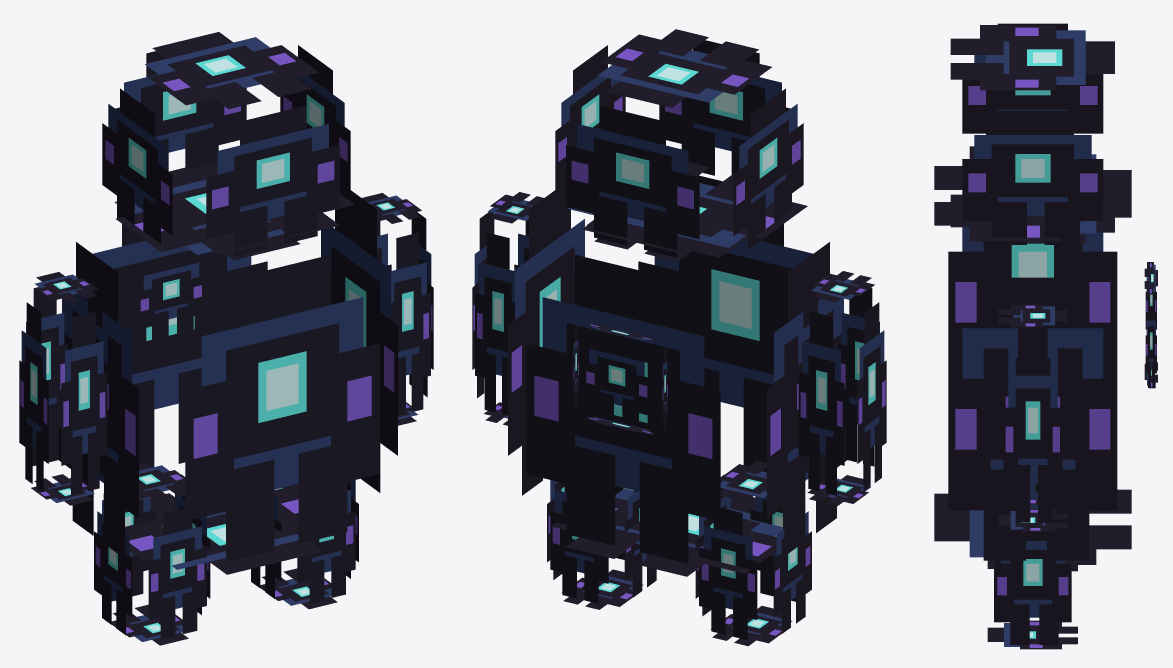
The model's file is elite.glb.
The picture shows the model from 3 angles, left to right: view 1: azimuth 30°, elevation 25°; view 2: azimuth 150°, elevation 25°; view 3: azimuth 270°, elevation 25°; orthographic projection.
Parts seen in each view (by area): view 1: body, head, arm-left, leg-left, arm-right, leg-right, core; view 2: body, head, arm-left, leg-left, arm-right, leg-right, core; view 3: body, head, arm-right, leg-right, core.
Part boxes in pixels (x1=…): body: x1=58, y1=162, x2=397, y2=574; head: x1=102, y1=32, x2=350, y2=260; arm-left: x1=19, y1=272, x2=109, y2=505; leg-left: x1=94, y1=462, x2=210, y2=645; arm-right: x1=362, y1=193, x2=433, y2=425; leg-right: x1=251, y1=480, x2=358, y2=609; core: x1=138, y1=250, x2=204, y2=345; body: x1=508, y1=162, x2=846, y2=576; head: x1=555, y1=29, x2=803, y2=261; arm-left: x1=796, y1=271, x2=886, y2=505; leg-left: x1=695, y1=460, x2=811, y2=646; arm-right: x1=472, y1=192, x2=543, y2=425; leg-right: x1=547, y1=480, x2=656, y2=609; core: x1=573, y1=322, x2=667, y2=434; body: x1=934, y1=146, x2=1131, y2=564; head: x1=950, y1=23, x2=1114, y2=244; arm-right: x1=998, y1=304, x2=1067, y2=531; leg-right: x1=987, y1=500, x2=1077, y2=649; core: x1=1144, y1=262, x2=1157, y2=388.
Bounding box in the file's own units: 2.38 × 3.18 × 1.27.
1 material, 1 textured.
